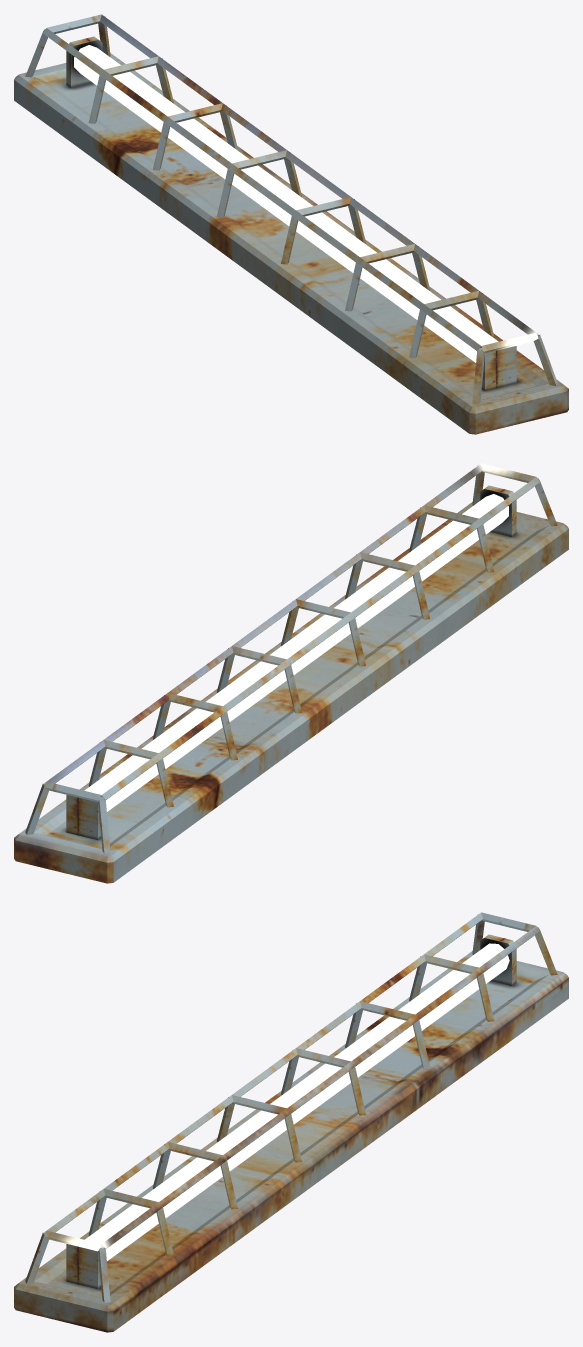
The model's file is IndustrialLamp_Ceiling_ALL.FBX.
3 renders of one model, top to bottom at view 1: azimuth 30°, elevation 25°; view 2: azimuth 150°, elevation 25°; view 3: azimuth 330°, elevation 25°, orthographic.
Parts seen in each view (by area): view 1: IndustrialLamp_Ceiling_LOD0, Source; view 2: IndustrialLamp_Ceiling_LOD0, Source; view 3: IndustrialLamp_Ceiling_LOD0, Source.
Part boxes in pixels (x1,y1,x2,y2): IndustrialLamp_Ceiling_LOD0: [14, 14, 568, 434]; Source: [74, 45, 498, 362]; IndustrialLamp_Ceiling_LOD0: [14, 463, 568, 883]; Source: [84, 494, 508, 811]; IndustrialLamp_Ceiling_LOD0: [14, 912, 568, 1332]; Source: [85, 943, 509, 1261].
Size of what is drawn, in the model's own units: 250 by 180 by 2000.
